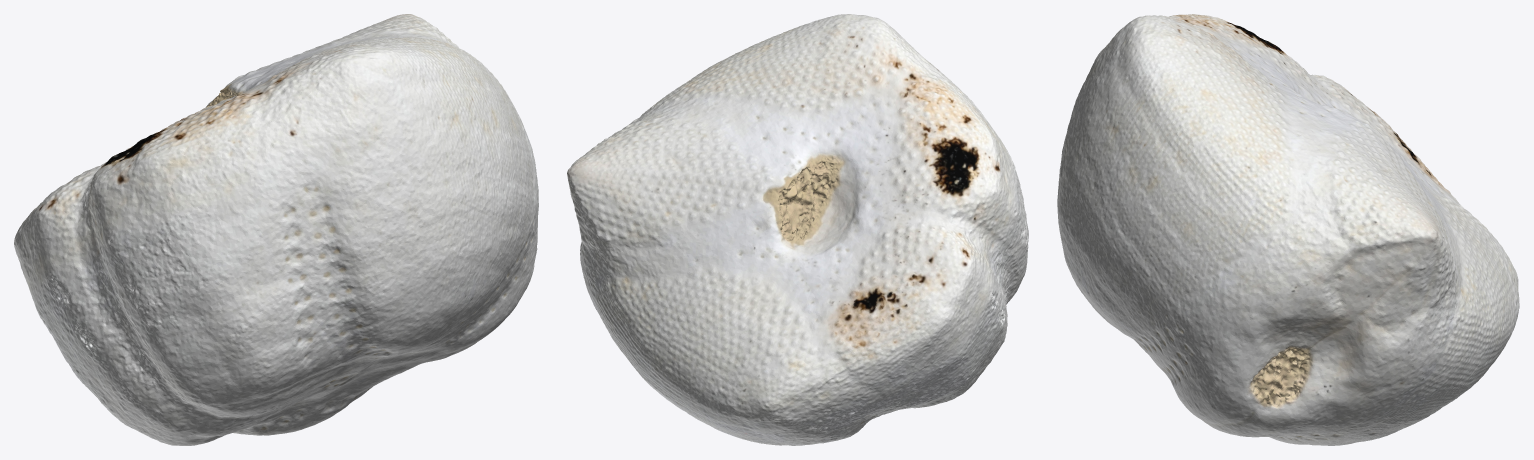
File: MZUR3D-034.glb
3 views of the same model, side by side, from view 1: azimuth 30°, elevation 25°; view 2: azimuth 150°, elevation 25°; view 3: azimuth 270°, elevation 25° (orthographic). The views are drawn at different scales.
Parts seen in each view (by area): view 1: MZUR3D-034; view 2: MZUR3D-034; view 3: MZUR3D-034.
Boxes of the visible parts, x1,y1,x2,y2 form: MZUR3D-034: (14,14,538,445); MZUR3D-034: (567,14,1028,445); MZUR3D-034: (1057,14,1519,445).
Bounding box in the file's own units: 0.3077 × 0.2748 × 0.2825.
1 material, 1 textured.
